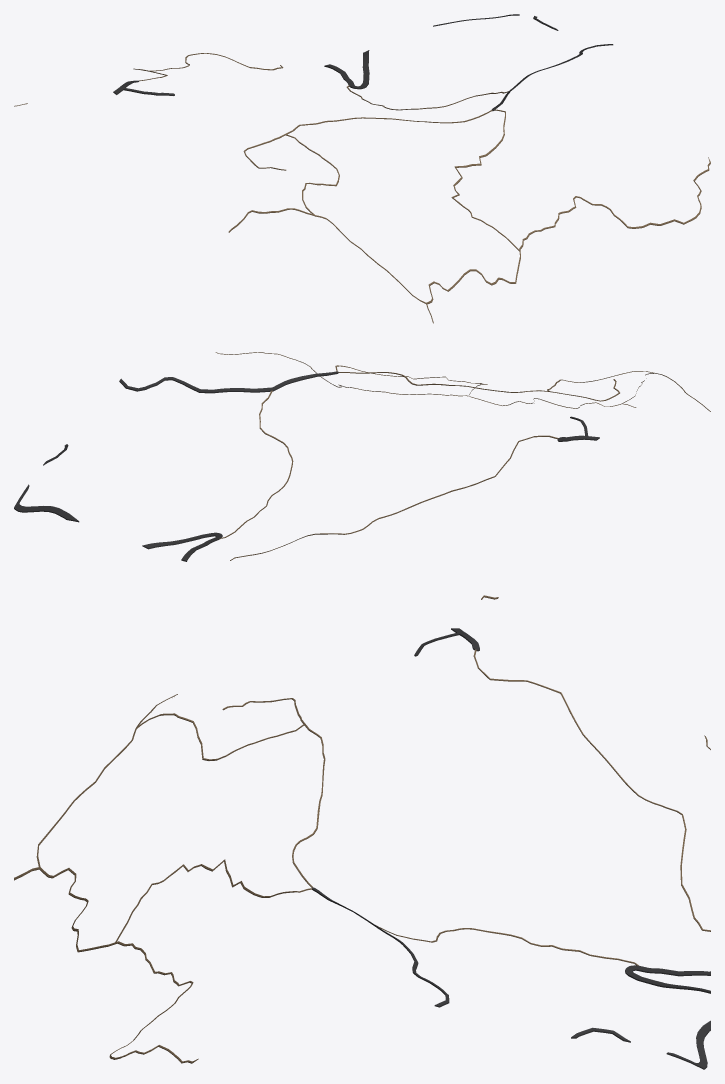
3 renders of one model, top to bottom at view 1: azimuth 30°, elevation 25°; view 2: azimuth 150°, elevation 25°; view 3: azimuth 270°, elevation 25°, orthographic. The views are drawn at different scales.
Bounding box in the file's own units: 587 × 162 × 583.
